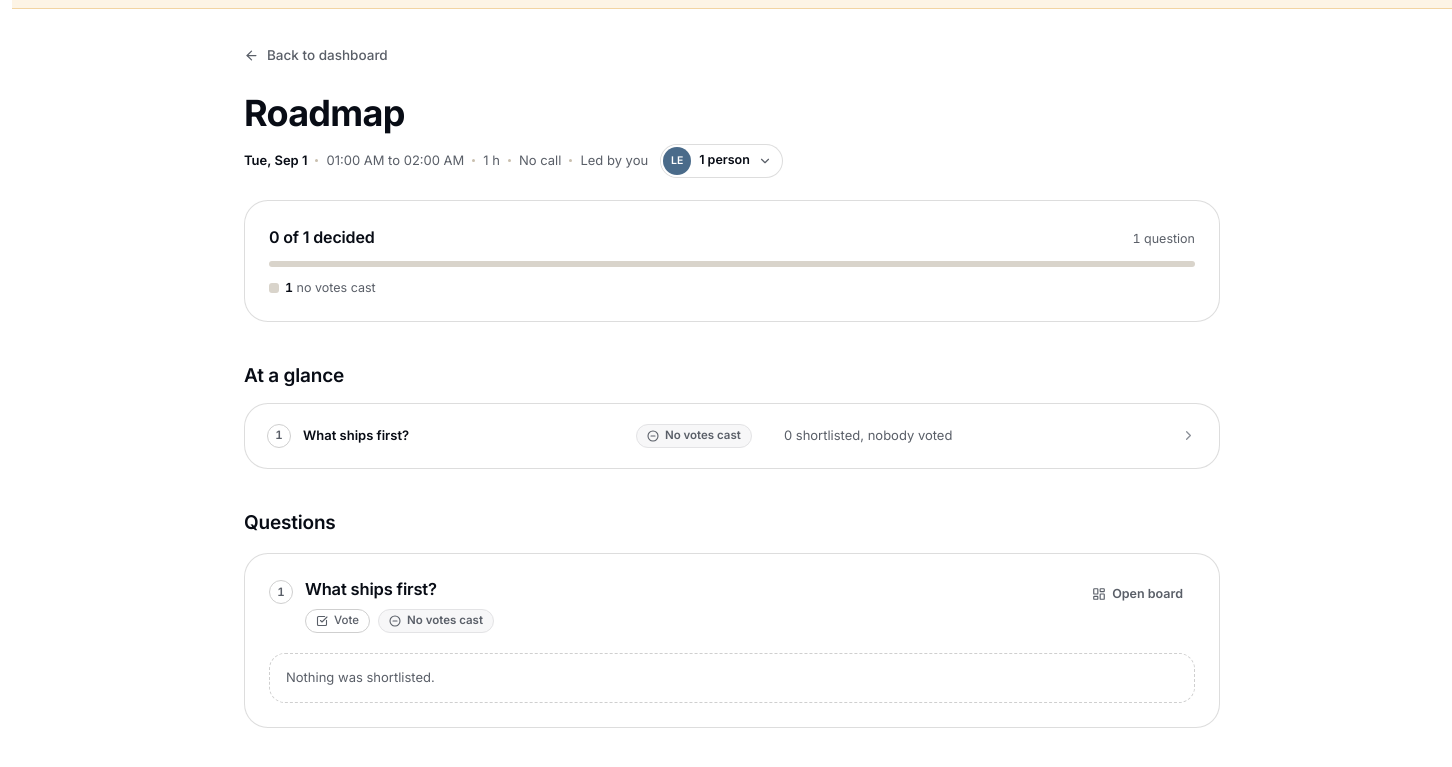
Test case: SessionEndedPage › opens one question’s board from its card
Click the button with aria-label "Open the board for question 1" at (1138, 594), box [1080,578,1195,610]
(page scrolled)
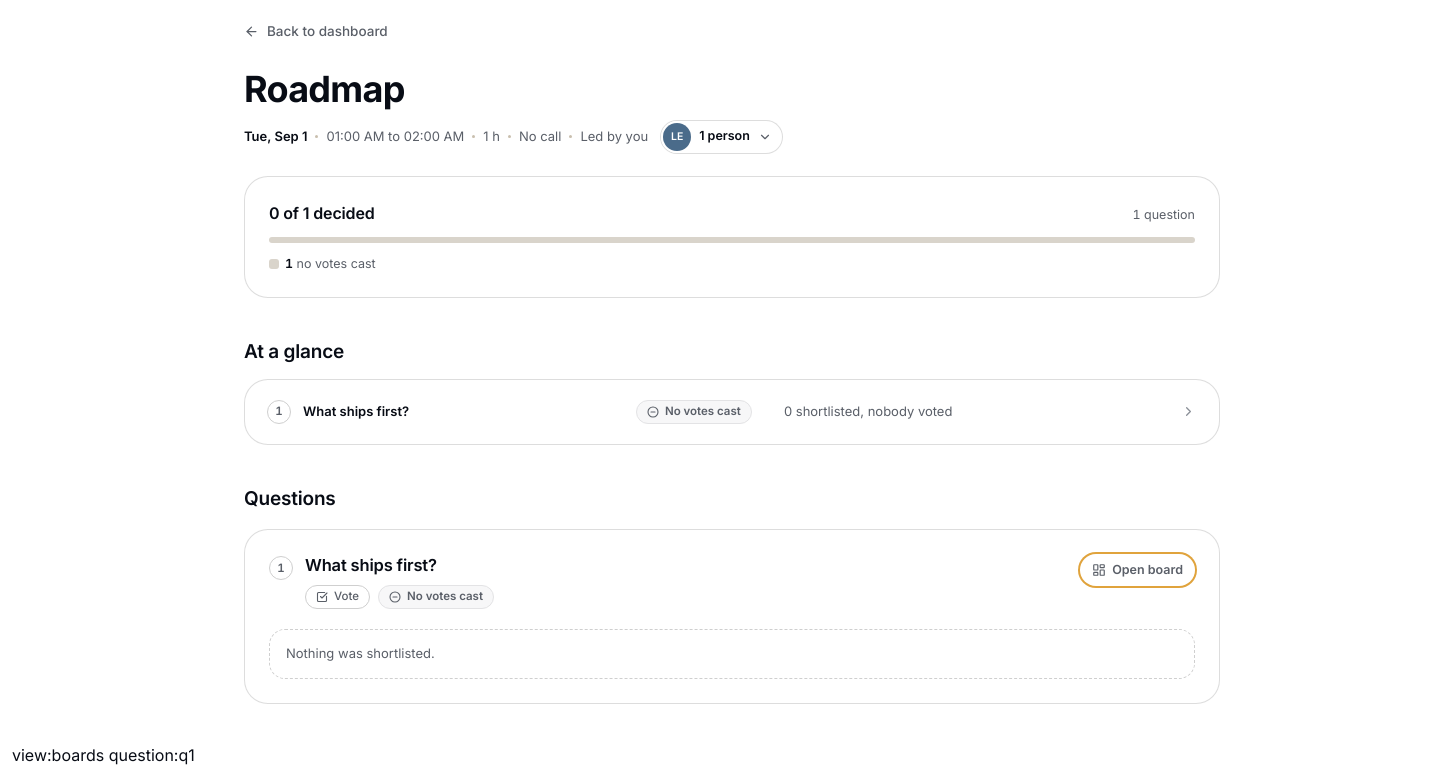
Check: the text "view:boards question:q1" is shown, box [12,745,195,765]
